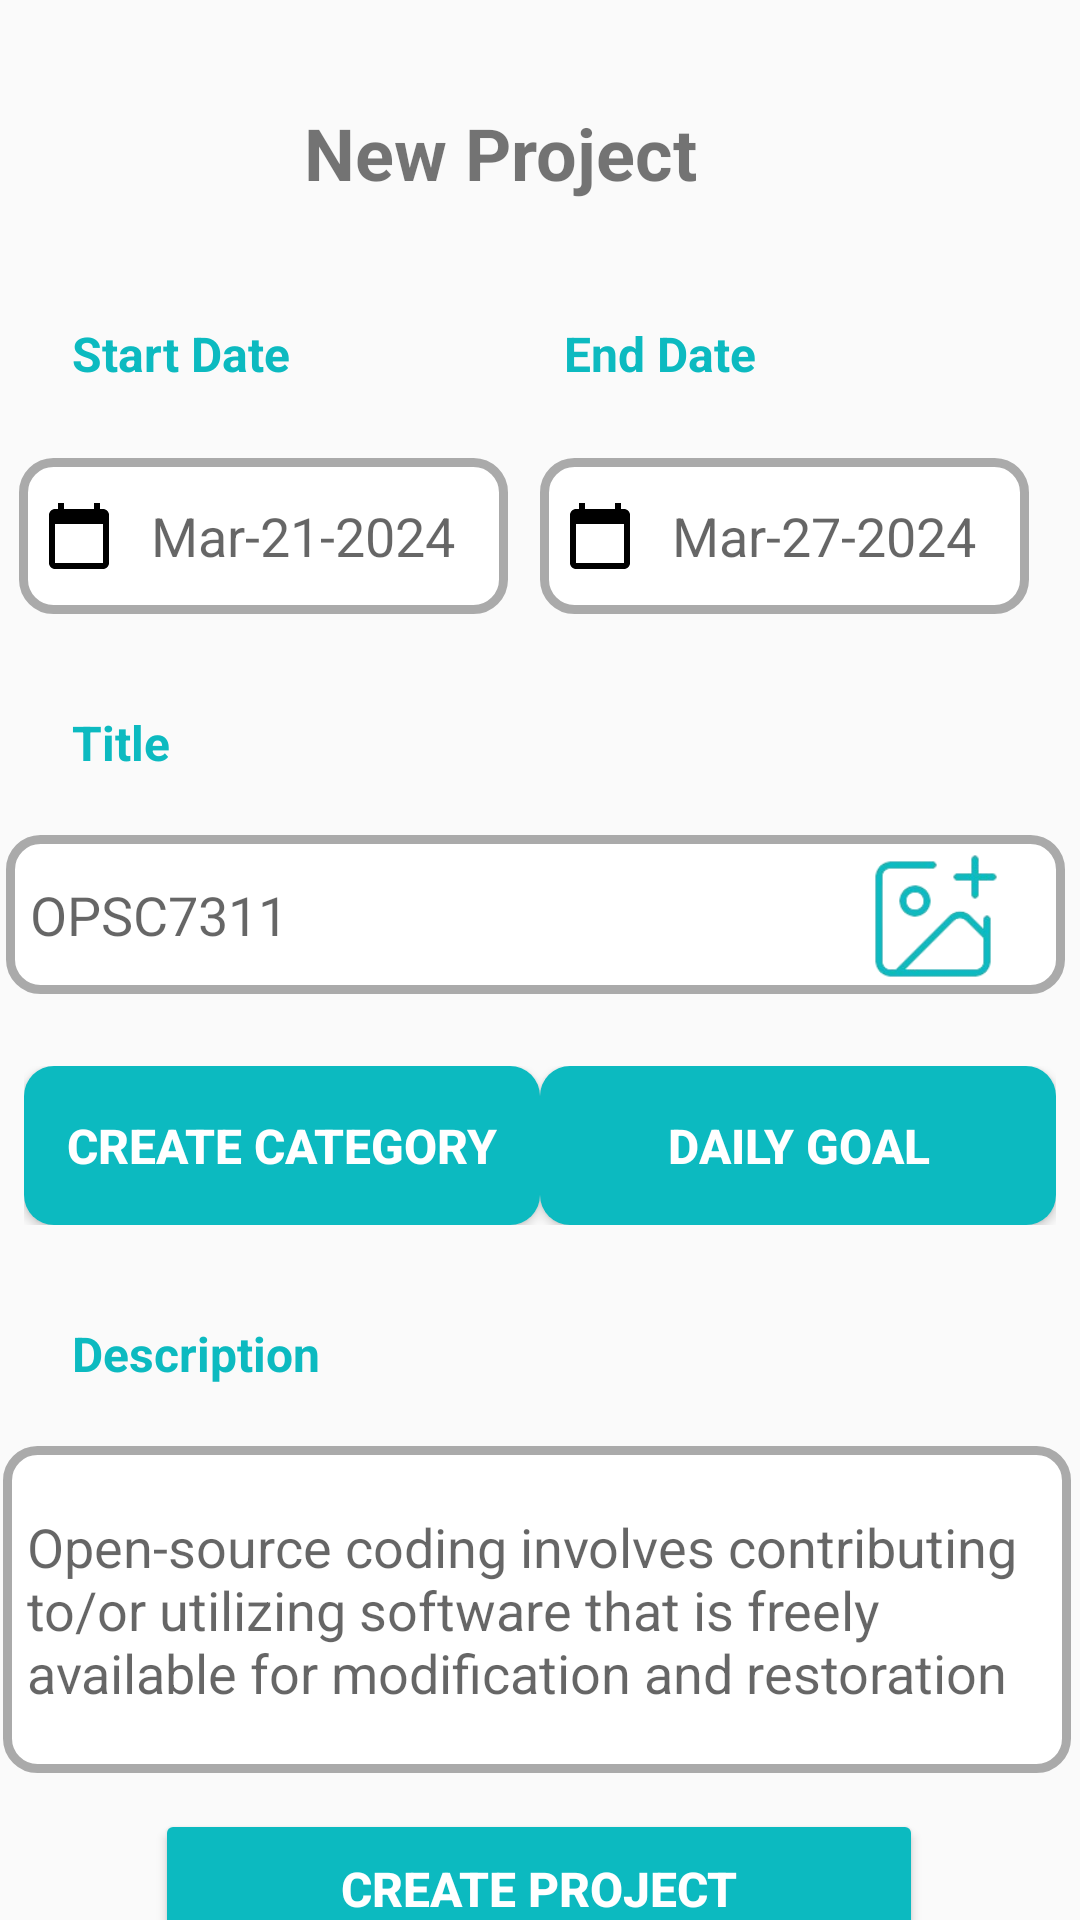

Icon click points for this 1080px x 1920px phone screenshot, format point (x, y):
add: point (936, 916)
